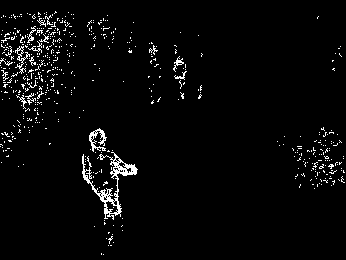person: (82, 127, 139, 249), (173, 55, 188, 100)
